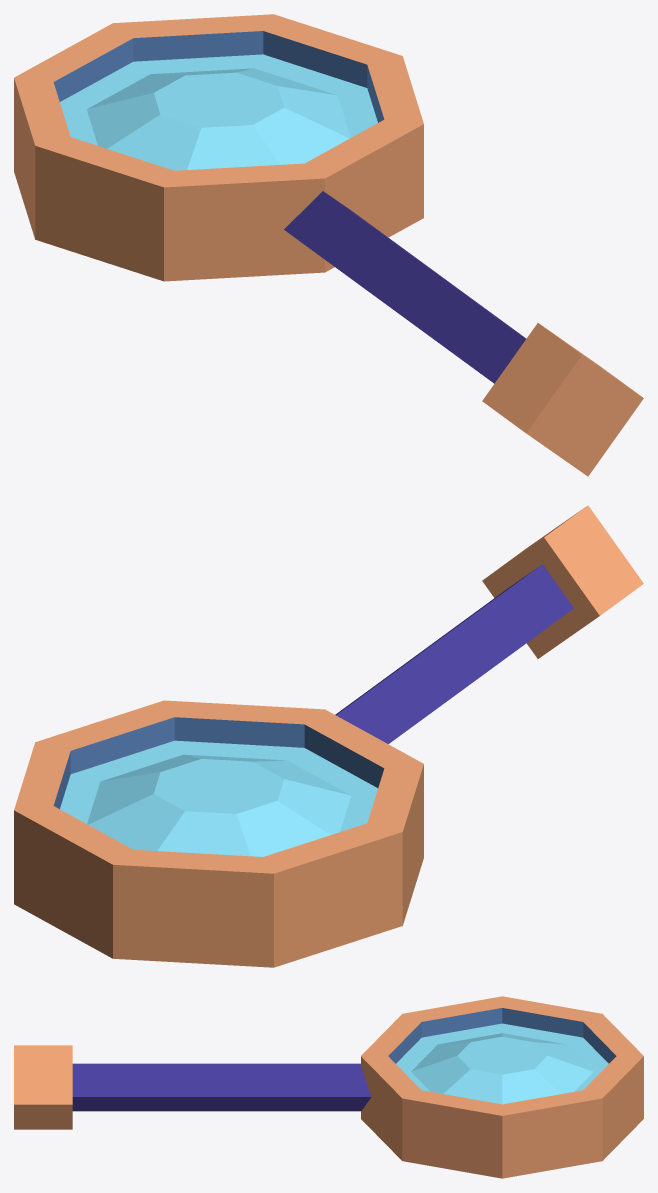
The model's file is Loupe.obj.
3 renders of one model, top to bottom at view 1: azimuth 30°, elevation 25°; view 2: azimuth 150°, elevation 25°; view 3: azimuth 270°, elevation 25°, orthographic. The views are drawn at different scales.
Visible parts, largest first — view 1: Loupe; view 2: Loupe; view 3: Loupe.
Part boxes in pixels (x1,y1,x2,y2): Loupe: [14, 14, 643, 476]; Loupe: [14, 505, 643, 967]; Loupe: [14, 996, 643, 1178].
Size of the model in its own units: 2.98 by 0.9541 by 6.62.
